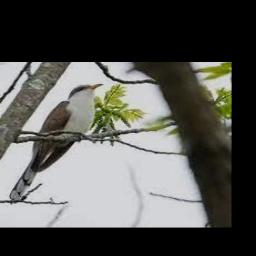Cuckoo: (10, 83, 105, 200)
